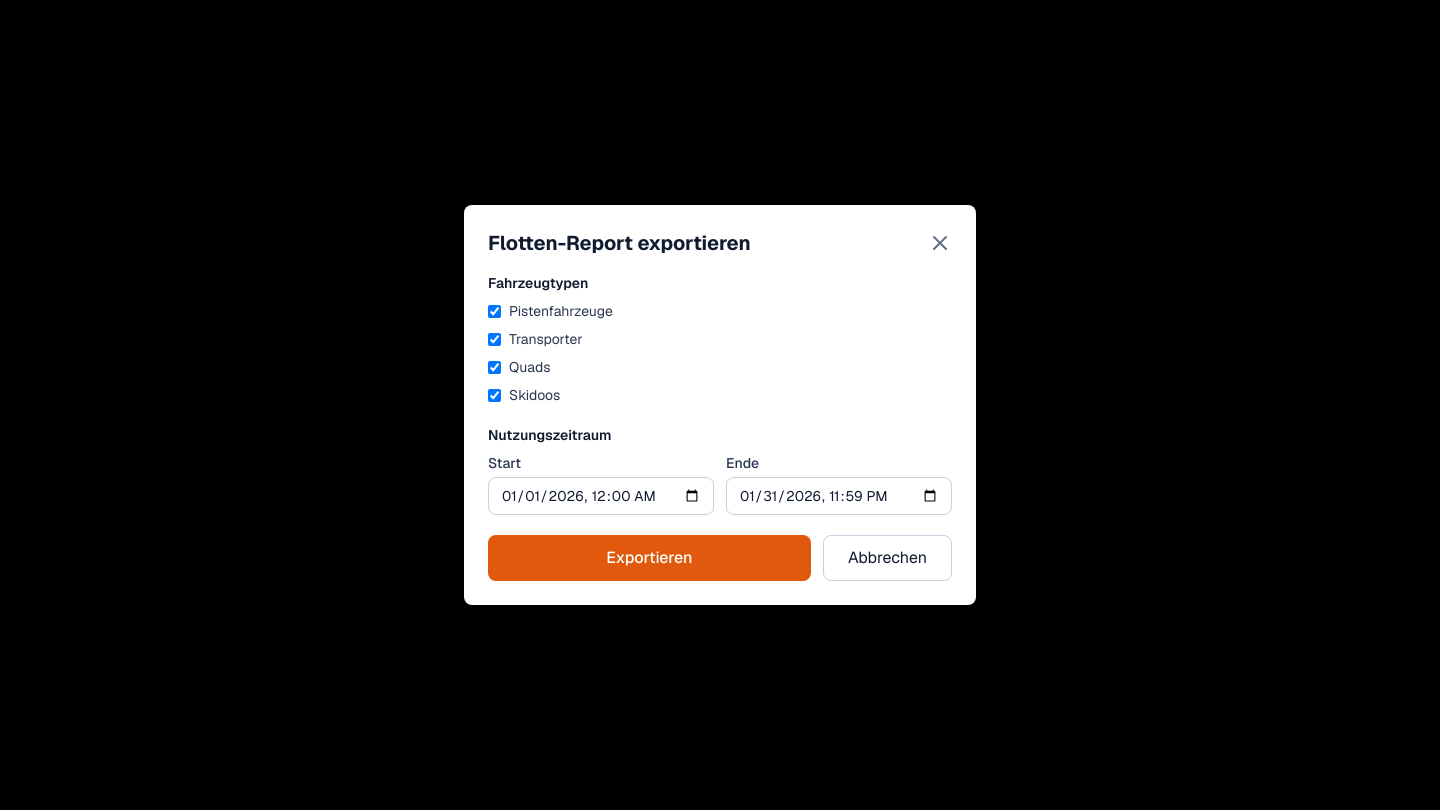
Scenario: ExportFleetModal › export › reports a generic error and stays open when the report cannot be built
The image size is (1440, 810).
Clear the field with id "exportRangeStart": (601, 496) left=488, top=477, right=714, bottom=515
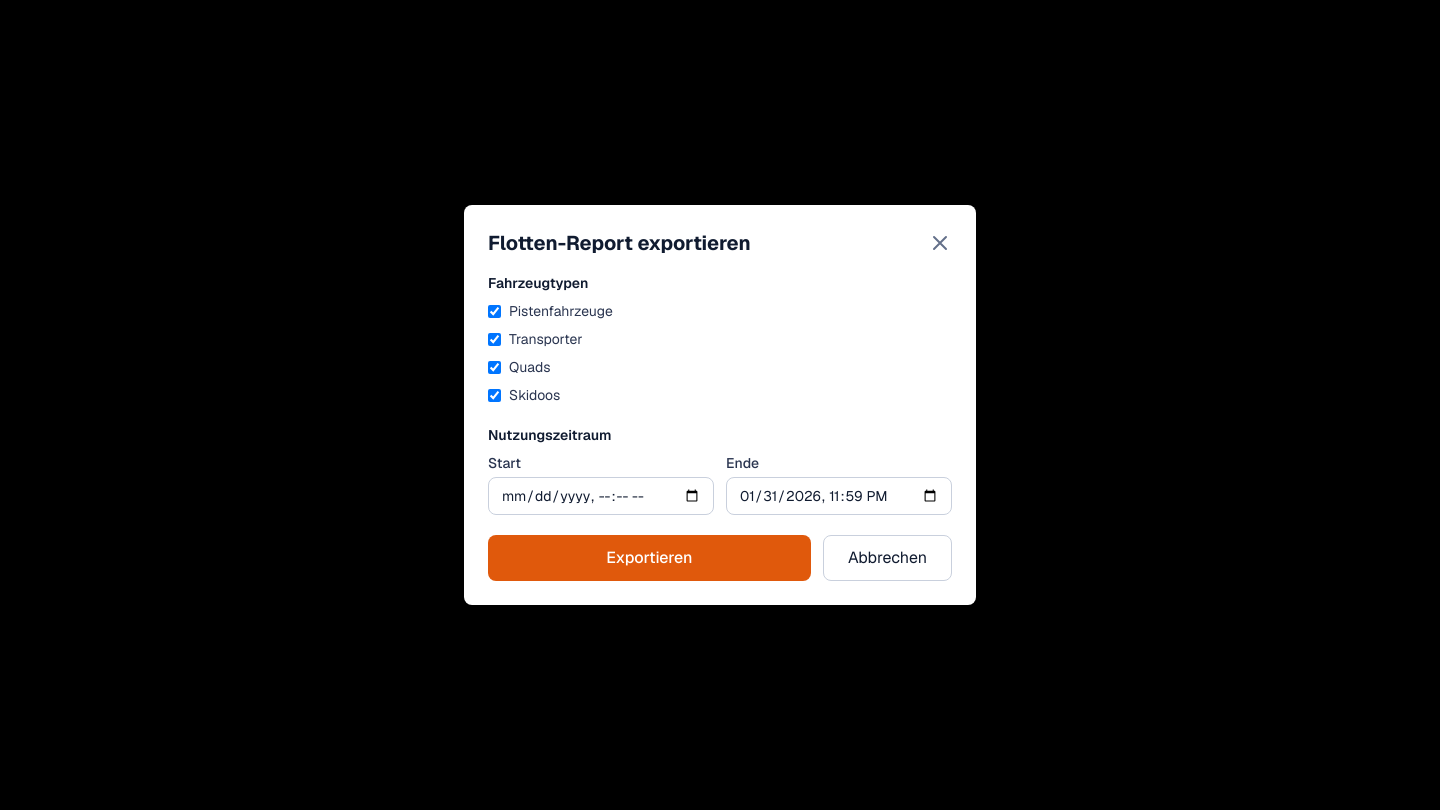
Click the button "Exportieren": click(649, 558) left=488, top=535, right=811, bottom=581
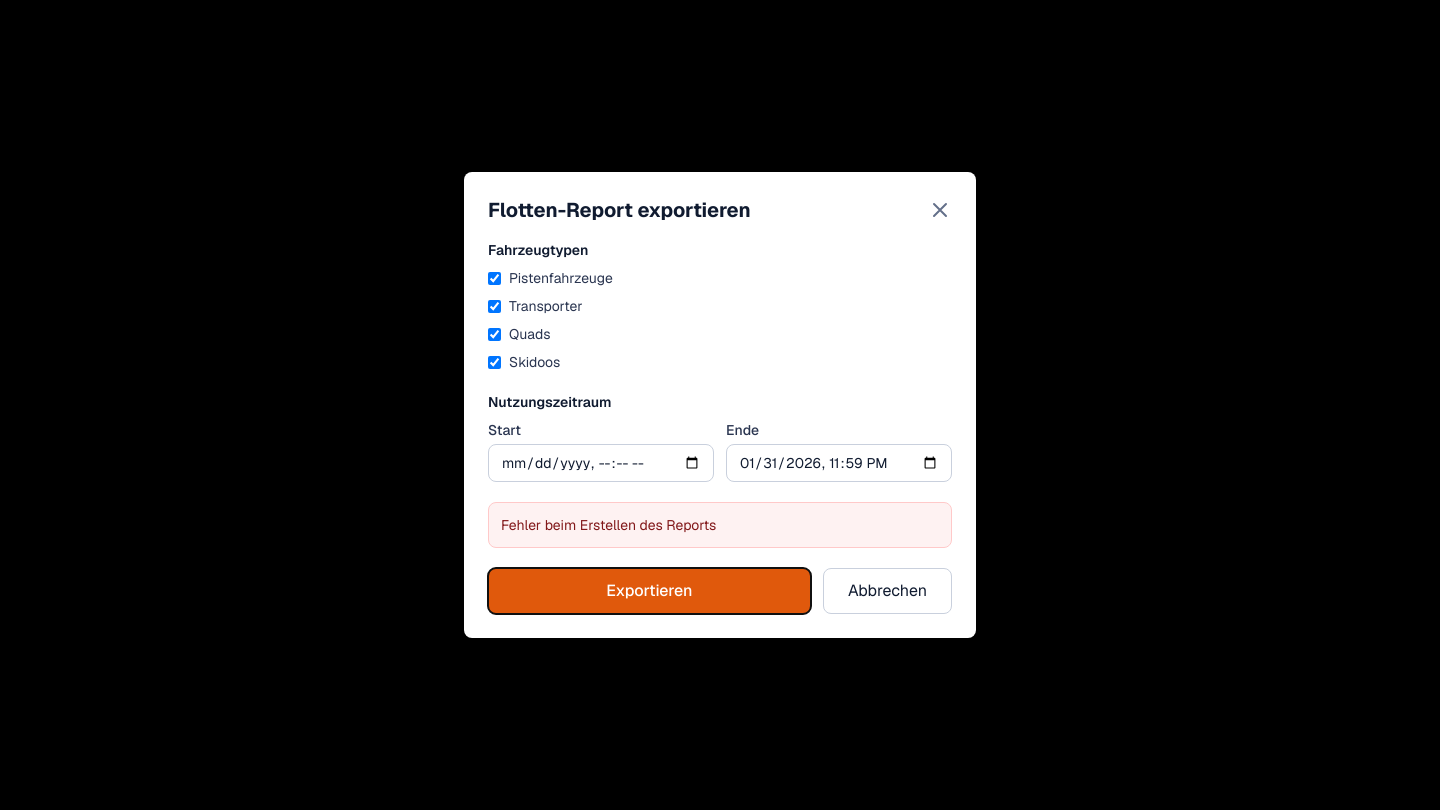
Check: the button "Exportieren" is enabled, box left=488, top=568, right=811, bottom=614
Check: the text "Fehler beim Erstellen des Reports" is shown, box left=501, top=516, right=716, bottom=534
